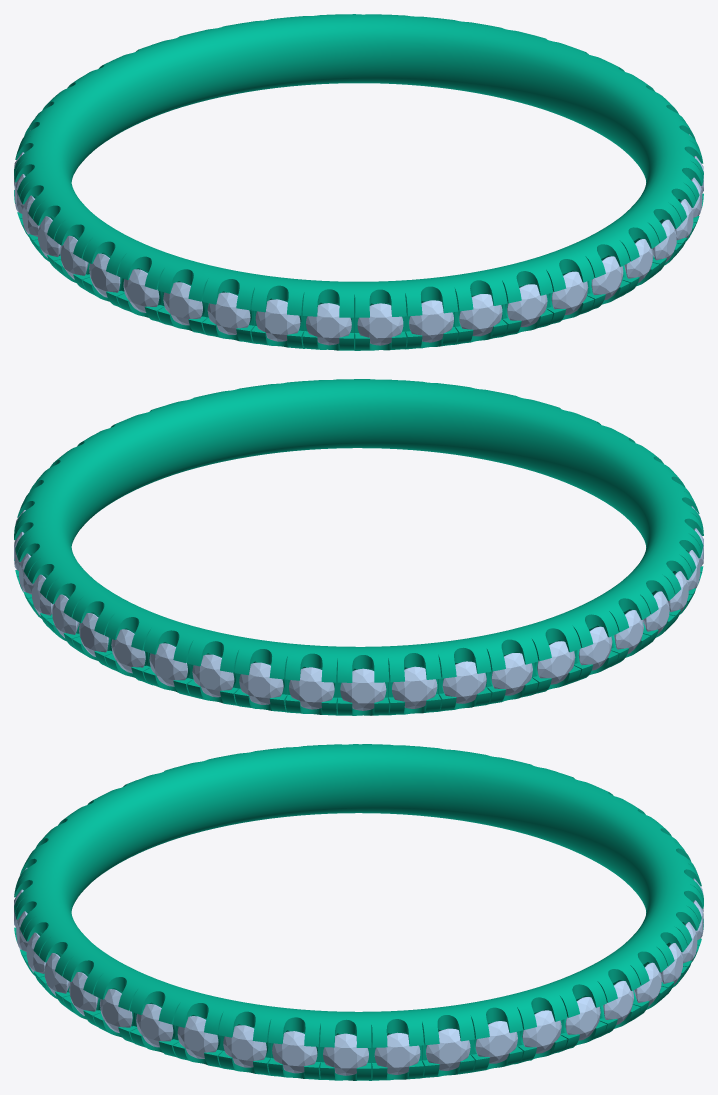
3 renders of one model, top to bottom at view 1: azimuth 30°, elevation 25°; view 2: azimuth 150°, elevation 25°; view 3: azimuth 270°, elevation 25°, orthographic.
Visible parts, largest first — view 1: VR BAND SIZE - O .50 CRT FULL WAY(base).3dm, Diamond_Round (×16); view 2: VR BAND SIZE - O .50 CRT FULL WAY(base).3dm, Diamond_Round (×15); view 3: VR BAND SIZE - O .50 CRT FULL WAY(base).3dm, Diamond_Round (×16).
Part boxes in pixels (box(x1,y1,x2,y2)): VR BAND SIZE - O .50 CRT FULL WAY(base).3dm: box(14, 14, 703, 350); Diamond_Round (×16): box(38, 216, 676, 345); VR BAND SIZE - O .50 CRT FULL WAY(base).3dm: box(14, 379, 703, 715); Diamond_Round (×15): box(52, 591, 669, 710); VR BAND SIZE - O .50 CRT FULL WAY(base).3dm: box(14, 744, 703, 1080); Diamond_Round (×16): box(44, 943, 682, 1075).
Size of the model in its own units: 2.82 by 0.2822 by 2.82.
